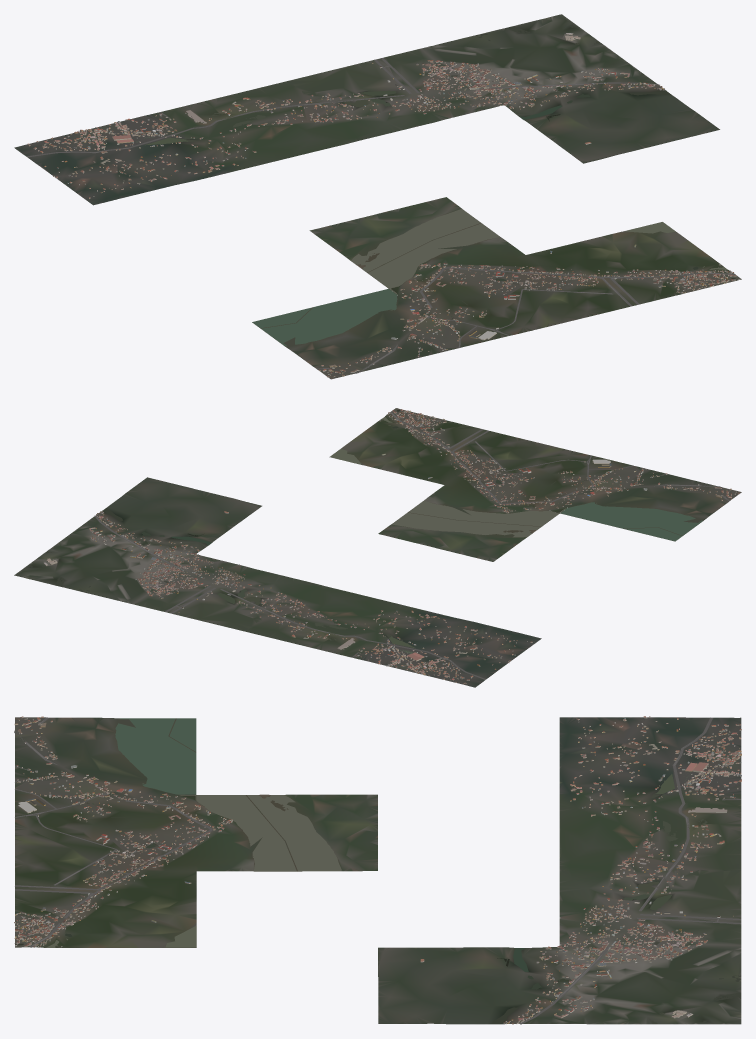
3 views of the same model, one above another, from view 1: azimuth 30°, elevation 25°; view 2: azimuth 150°, elevation 25°; view 3: azimuth 270°, elevation 25° (orthographic). The views are drawn at different scales.
Parts seen in each view (by area): view 1: ground, buildings, water, roads; view 2: ground, buildings, water, roads; view 3: ground, buildings, water, roads.
Part boxes in pixels (<box>): ground: <box>14,14,741,379</box>; buildings: <box>28,33,739,377</box>; water: <box>136,26,736,346</box>; roads: <box>26,58,735,373</box>; ground: <box>14,408,741,687</box>; buildings: <box>43,408,739,684</box>; water: <box>29,409,702,653</box>; roads: <box>94,411,730,679</box>; ground: <box>15,717,741,1024</box>; buildings: <box>14,716,741,1024</box>; water: <box>15,718,741,1024</box>; roads: <box>14,717,741,1024</box>.
Size of the model in its own units: 5612 by 31.22 by 5620.
